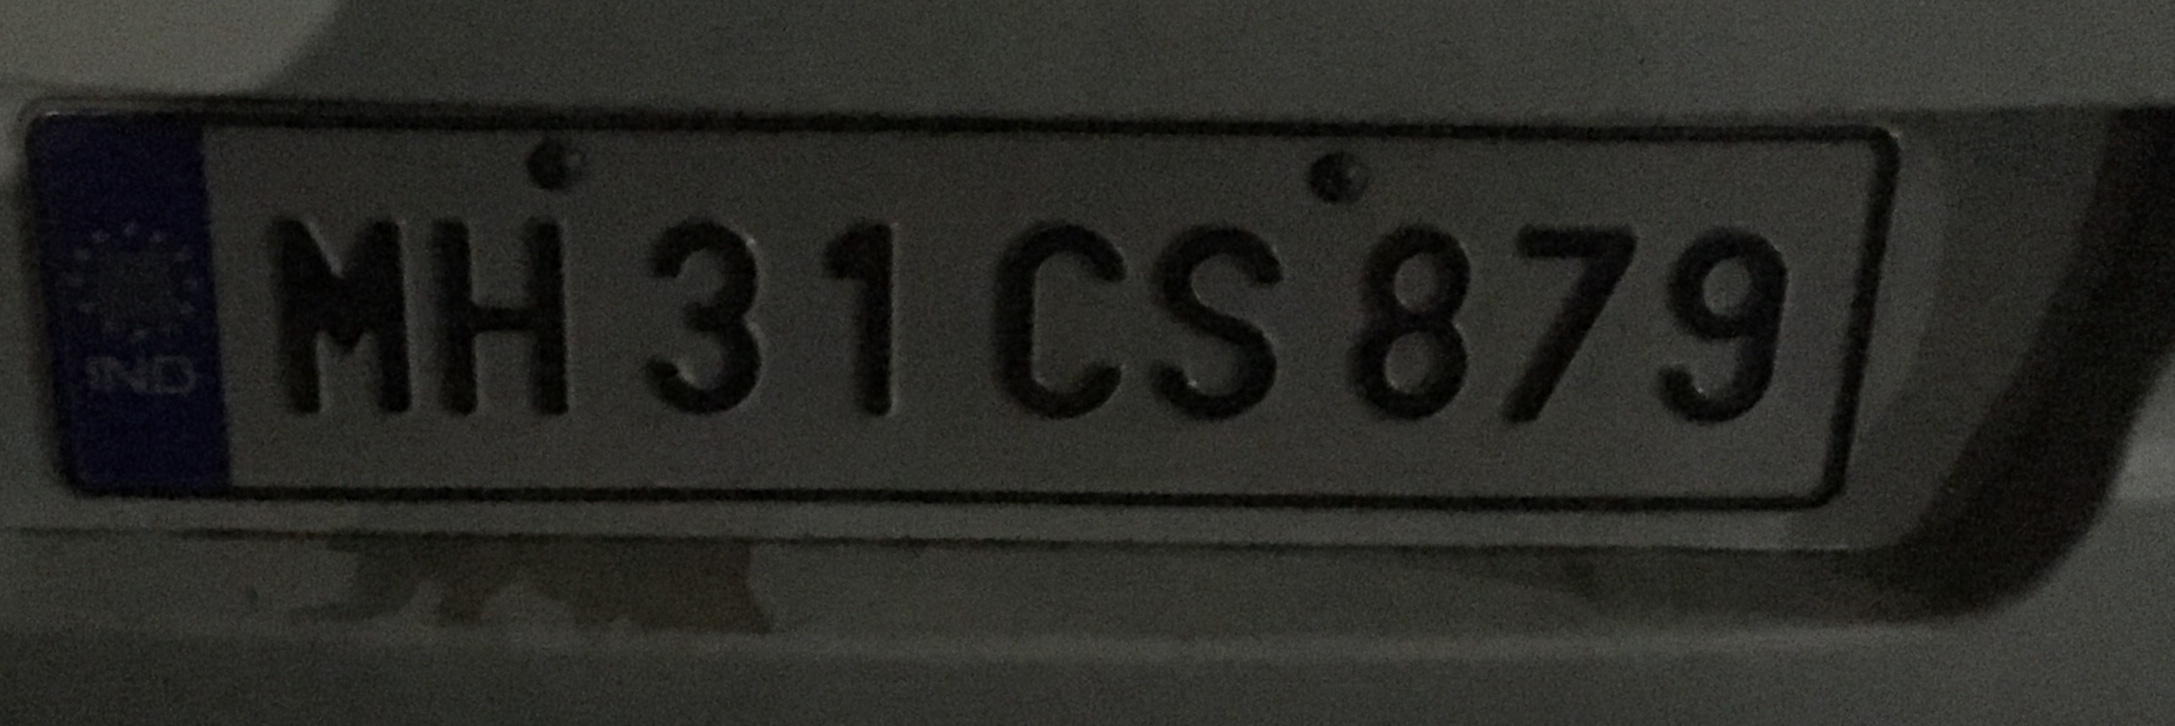numberplate: (21, 100, 1896, 512)
